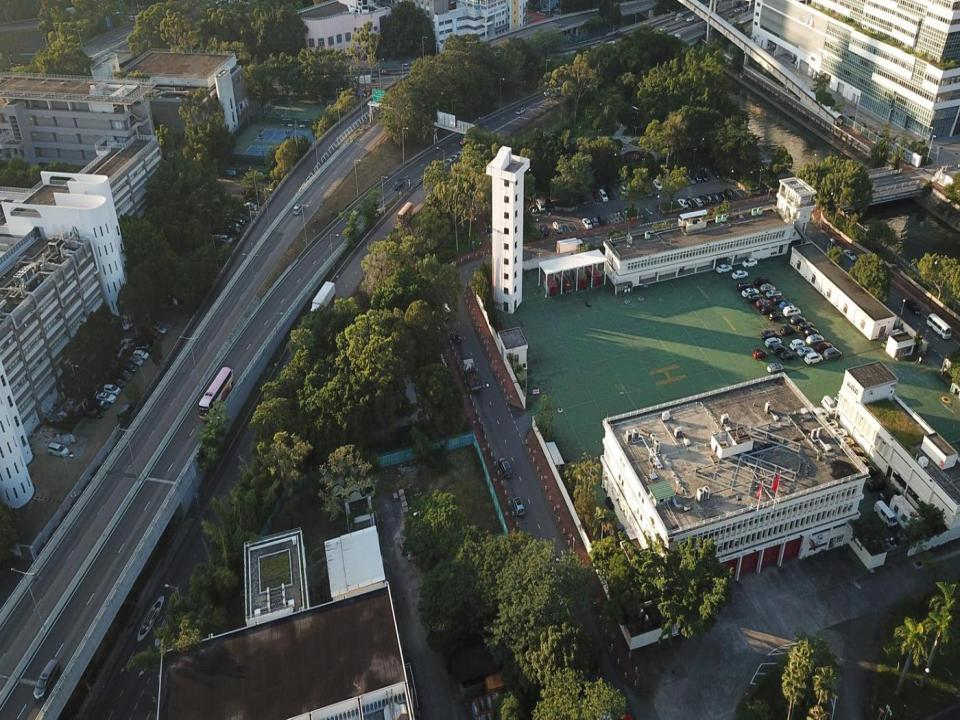bus: (199, 368, 234, 422), (926, 313, 952, 339), (397, 201, 413, 223)
car: (33, 660, 62, 702), (902, 296, 922, 316), (820, 396, 836, 414), (842, 446, 864, 459), (824, 346, 843, 361), (860, 465, 880, 479), (879, 490, 902, 502), (84, 406, 105, 419), (499, 457, 512, 478), (865, 478, 886, 491), (818, 417, 838, 430), (96, 392, 117, 404), (850, 456, 868, 470), (804, 351, 823, 364), (828, 428, 848, 440), (811, 406, 829, 419), (513, 497, 525, 516), (747, 292, 764, 305), (815, 342, 832, 355), (104, 383, 122, 395), (767, 362, 784, 374), (148, 324, 166, 335), (764, 337, 782, 348), (736, 280, 754, 291), (741, 287, 759, 298), (843, 248, 857, 262), (117, 369, 133, 381), (770, 344, 786, 356), (134, 342, 153, 352), (715, 263, 732, 274), (751, 349, 768, 360), (829, 237, 843, 250), (92, 400, 110, 410), (806, 334, 824, 344), (754, 277, 772, 287), (742, 256, 758, 267), (780, 350, 796, 361), (789, 339, 805, 350), (109, 378, 126, 388), (126, 356, 143, 366), (797, 320, 814, 330), (837, 437, 854, 447), (248, 192, 261, 205), (134, 349, 149, 360), (772, 295, 788, 305), (442, 302, 451, 319), (759, 331, 776, 340), (653, 178, 663, 193), (768, 312, 783, 322), (798, 346, 813, 356), (552, 86, 564, 98), (755, 300, 771, 309), (760, 305, 776, 314), (790, 314, 806, 323), (764, 290, 782, 298), (124, 362, 137, 373), (692, 196, 703, 209), (451, 330, 461, 344), (732, 270, 749, 278), (804, 328, 819, 337), (712, 167, 723, 179), (618, 184, 628, 197), (719, 191, 729, 204), (147, 332, 163, 340), (236, 213, 250, 222), (546, 198, 555, 212), (780, 326, 794, 335), (393, 179, 404, 190), (552, 221, 562, 233), (725, 189, 735, 201), (760, 284, 775, 292), (540, 224, 549, 237), (779, 302, 793, 310), (293, 204, 304, 214), (706, 193, 716, 204), (713, 193, 723, 204), (220, 234, 232, 243), (687, 174, 696, 186), (243, 203, 258, 210), (701, 168, 708, 183), (230, 222, 243, 230), (232, 218, 245, 226), (582, 218, 592, 228), (578, 196, 588, 206), (678, 198, 688, 208), (226, 226, 240, 233), (594, 190, 602, 202), (694, 171, 702, 182), (686, 198, 695, 207), (543, 88, 553, 96), (672, 33, 680, 43), (597, 216, 607, 224), (869, 128, 877, 138), (516, 107, 526, 114), (591, 218, 599, 226), (701, 196, 709, 204), (858, 121, 866, 129), (703, 23, 712, 30), (459, 138, 467, 145), (686, 15, 694, 22), (848, 114, 856, 121), (380, 69, 388, 75), (675, 15, 683, 20), (659, 27, 667, 31), (559, 23, 565, 28), (677, 13, 683, 17), (372, 74, 377, 78)
truck: (310, 280, 336, 324), (462, 358, 482, 394), (555, 238, 583, 254), (353, 74, 371, 84)
van: (874, 501, 897, 528), (47, 441, 69, 457), (117, 402, 134, 422), (536, 196, 545, 213), (599, 188, 609, 202), (606, 186, 614, 200), (130, 15, 138, 22), (616, 31, 624, 38), (791, 56, 798, 63)
